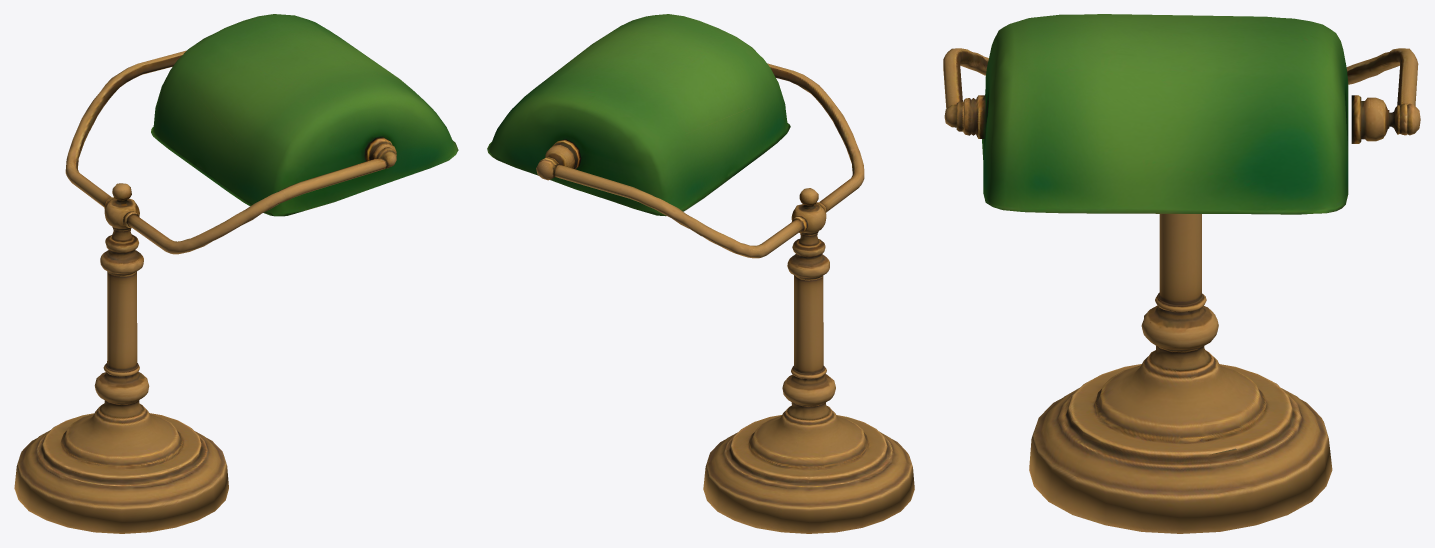
The picture shows the model from 3 angles, left to right: view 1: azimuth 30°, elevation 25°; view 2: azimuth 150°, elevation 25°; view 3: azimuth 270°, elevation 25°; orthographic projection. The views are drawn at different scales.
Parts seen in each view (by area): view 1: tripo_node_97da77ee-07f9-4d70-a084-f48036cc7fa3; view 2: tripo_node_97da77ee-07f9-4d70-a084-f48036cc7fa3; view 3: tripo_node_97da77ee-07f9-4d70-a084-f48036cc7fa3.
Boxes of the visible parts, x1,y1,x2,y2 form: tripo_node_97da77ee-07f9-4d70-a084-f48036cc7fa3: (14,14,458,533); tripo_node_97da77ee-07f9-4d70-a084-f48036cc7fa3: (487,14,914,533); tripo_node_97da77ee-07f9-4d70-a084-f48036cc7fa3: (943,14,1420,533).
Size of the model in its own units: 0.9824 by 0.998 by 0.7715.
1 material, 1 textured.
